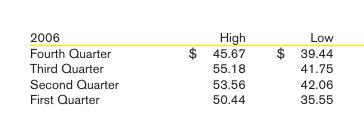table: (29, 28, 332, 106)
table column: (29, 28, 152, 106), (152, 28, 260, 106), (260, 28, 332, 106)
table column header: (29, 28, 332, 44)
table row: (29, 28, 332, 44), (29, 59, 332, 75), (29, 90, 332, 106), (29, 44, 332, 59), (29, 75, 332, 90)
